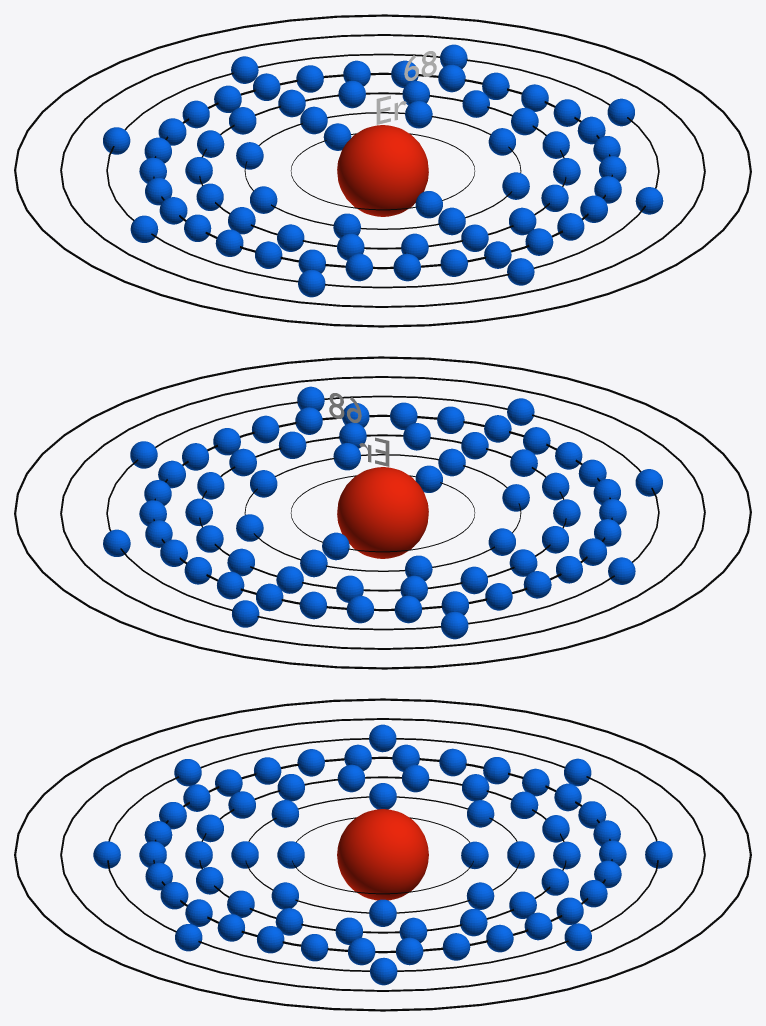
3 views of the same model, one above another, from view 1: azimuth 30°, elevation 25°; view 2: azimuth 150°, elevation 25°; view 3: azimuth 270°, elevation 25° (orthographic).
Parts seen in each view (by area): view 1: Er4, Er3, Proton, Er2, n7, Er5, n6, n5, Er1, n3, n4, n2; view 2: Er4, Er3, Proton, Er2, Er5, n7, n6, n5, Er1, n3, n4, n2; view 3: Er4, Er3, Proton, Er2, Er5, n7, n6, n5, Er1, n3, n4, n2 (+1 smaller).
Boxes of the visible parts, x1,y1,x2,y2 form: Er4: [139, 60, 626, 281]; Er3: [185, 80, 580, 260]; Proton: [337, 125, 428, 216]; Er2: [236, 101, 529, 238]; n7: [14, 14, 751, 327]; Er5: [103, 44, 663, 297]; n6: [60, 34, 705, 307]; n5: [106, 53, 659, 288]; Er1: [323, 123, 442, 218]; n3: [199, 92, 566, 249]; n4: [153, 72, 612, 269]; n2: [244, 112, 521, 229]; Er4: [139, 402, 626, 623]; Er3: [185, 422, 580, 602]; Proton: [337, 467, 428, 558]; Er2: [236, 443, 529, 580]; Er5: [103, 386, 662, 639]; n7: [14, 356, 751, 669]; n6: [60, 376, 705, 649]; n5: [106, 395, 659, 630]; Er1: [322, 465, 442, 560]; n3: [199, 434, 566, 591]; n4: [153, 414, 612, 611]; n2: [244, 454, 521, 571]; Er4: [139, 744, 626, 965]; Er3: [185, 764, 580, 944]; Proton: [337, 809, 428, 900]; Er2: [231, 783, 534, 926]; Er5: [93, 724, 672, 985]; n7: [14, 698, 751, 1011]; n6: [60, 718, 705, 991]; n5: [107, 738, 658, 971]; Er1: [277, 841, 488, 869]; n3: [199, 776, 566, 933]; n4: [153, 756, 612, 953]; n2: [245, 796, 520, 913].
Bounding box in the file's own units: 802 × 180 × 802.
